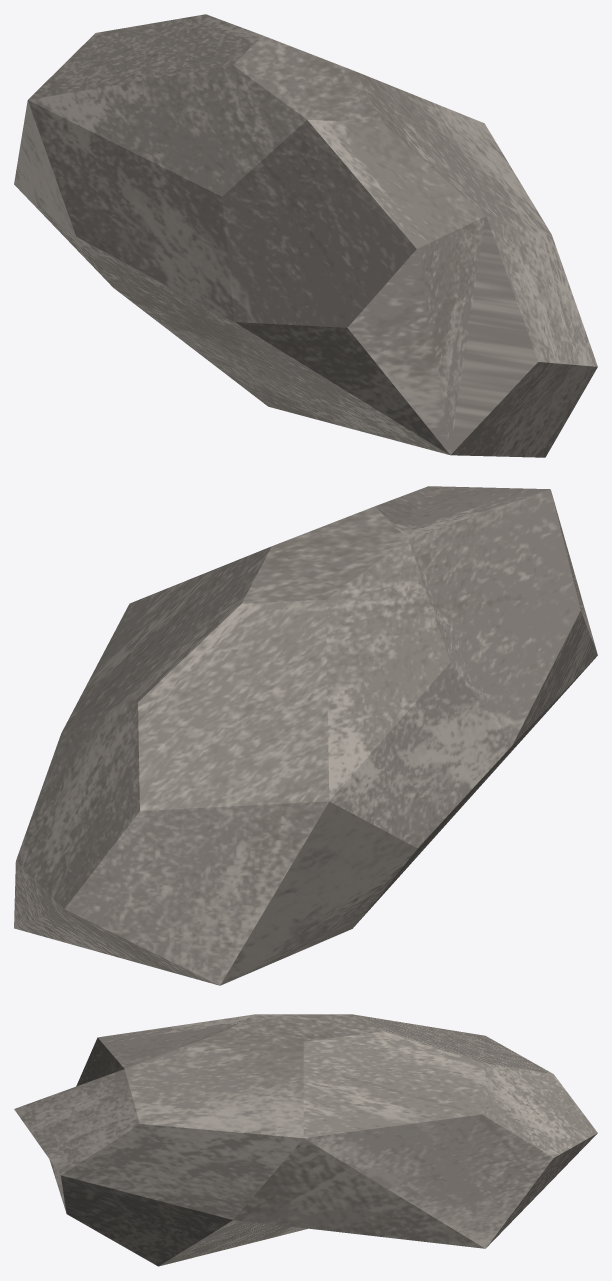
The model's file is Piedra2.fbx.
3 views of the same model, one above another, from view 1: azimuth 30°, elevation 25°; view 2: azimuth 150°, elevation 25°; view 3: azimuth 270°, elevation 25° (orthographic). The views are drawn at different scales.
Parts seen in each view (by area): view 1: Piedra 6; view 2: Piedra 6; view 3: Piedra 6.
Part boxes in pixels (x1=…): Piedra 6: x1=14, y1=14, x2=597, y2=457; Piedra 6: x1=14, y1=486, x2=597, y2=985; Piedra 6: x1=14, y1=1014, x2=597, y2=1266.
Bounding box in the file's own units: 170 × 156 × 390.
